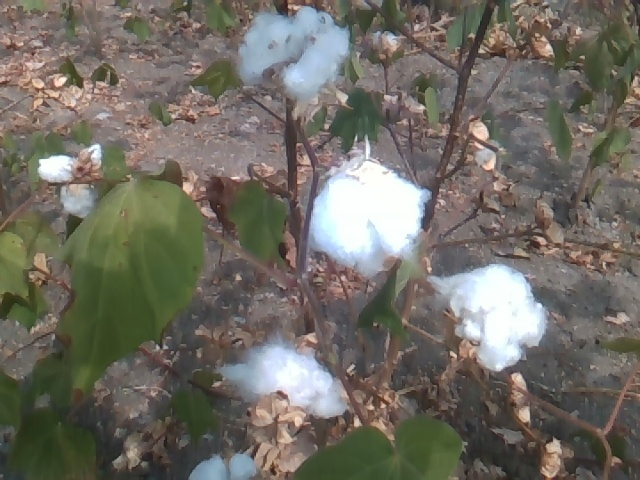cotton: (307, 159, 429, 284), (428, 261, 562, 373), (230, 7, 357, 104), (219, 339, 354, 426), (34, 144, 110, 215), (183, 451, 261, 477), (363, 28, 406, 67)
